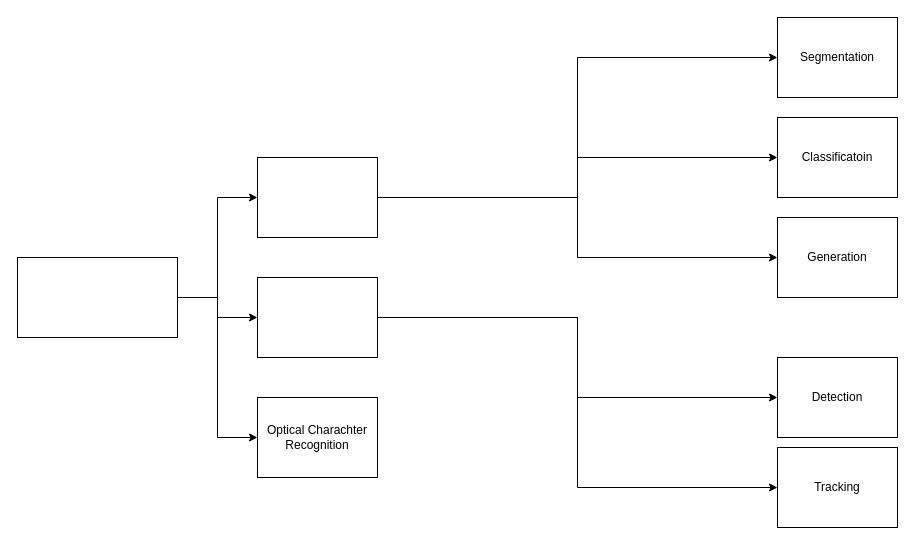
Image size: 915x545. Some labels were removed from this diagram. The shapes that lost their labels are listed below. From the top down, each one's centre as x and y in pixels, then its label:
At point (317, 197): "Image".
At point (97, 297): "Computer Vision".
At point (317, 317): "Object".
